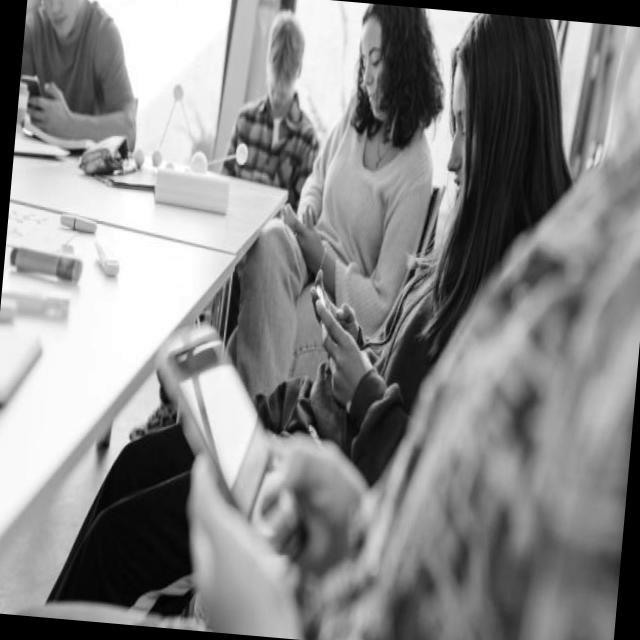phone: (142, 320, 324, 566)
